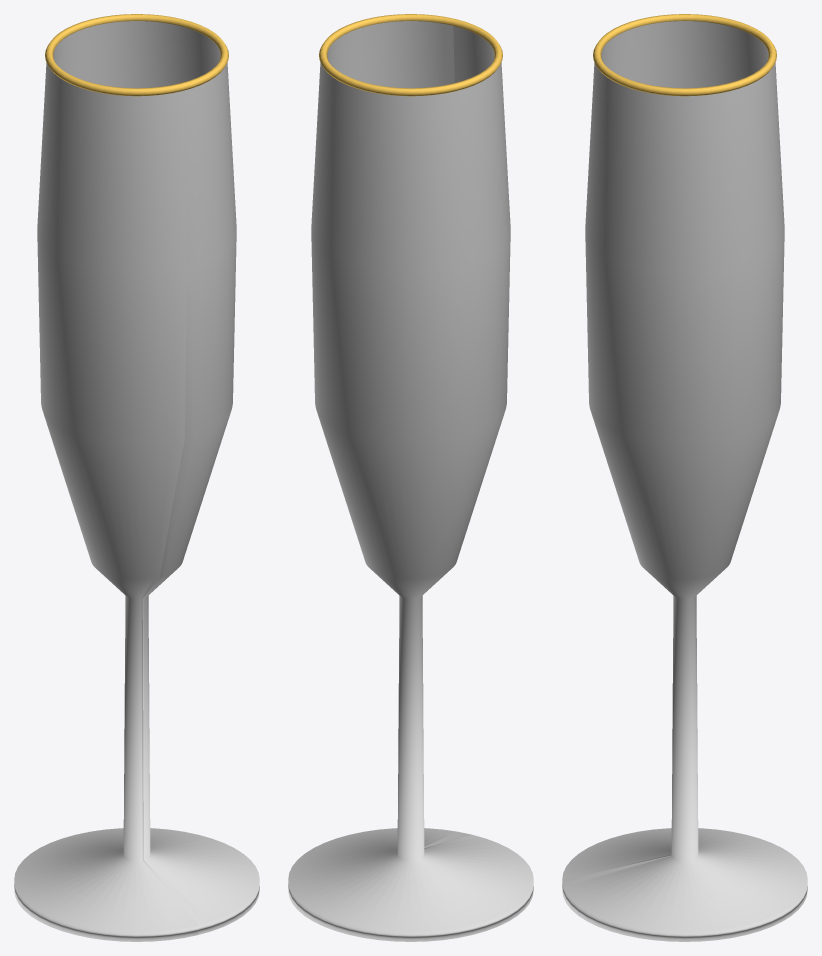
Rendered from champagne.glb.
3 views of the same model, side by side, from view 1: azimuth 30°, elevation 25°; view 2: azimuth 150°, elevation 25°; view 3: azimuth 270°, elevation 25° (orthographic).
Visible parts, largest first — view 1: glass, garnish; view 2: glass, garnish; view 3: glass, garnish.
Part boxes in pixels (<box>): glass: <box>14,21,259,941</box>; garnish: <box>45,14,228,96</box>; glass: <box>288,21,533,941</box>; garnish: <box>319,14,502,96</box>; glass: <box>562,21,807,941</box>; garnish: <box>593,14,776,96</box>.
Size of the model in its own units: 0.064 by 0.241 by 0.064.
